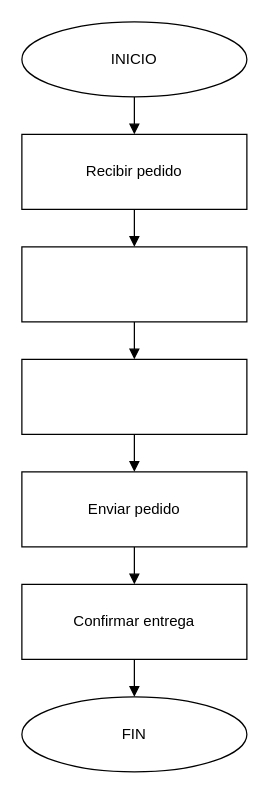
This 269x794 diagram has some shape labels left out. Here are the shapes that lost their labels. From the top down, the centre of each, then its label:
[134,284]: Preparar pedido
[134,396]: Registrar dirección
